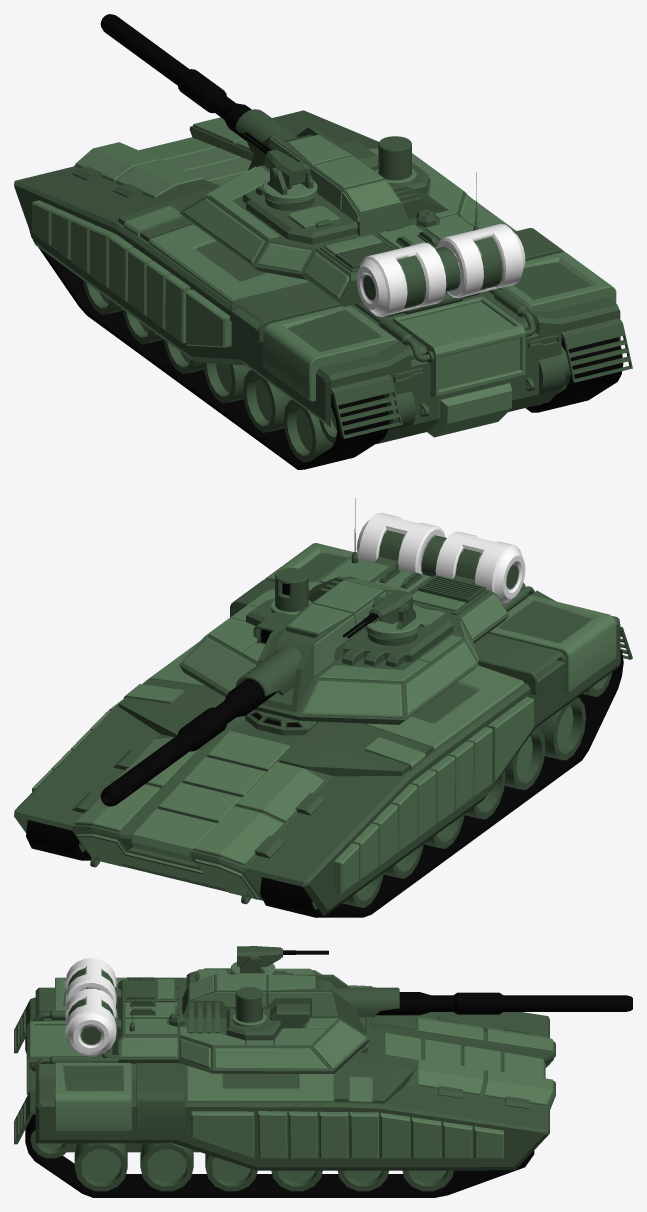
Rendered from Tank.glb.
3 renders of one model, top to bottom at view 1: azimuth 30°, elevation 25°; view 2: azimuth 150°, elevation 25°; view 3: azimuth 270°, elevation 25°, orthographic. The views are drawn at different scales.
Parts seen in each view (by area): view 1: Tank, Turret; view 2: Tank, Turret; view 3: Tank, Turret.
Boxes of the visible parts, x1,y1,x2,y2 form: Tank: [14, 110, 632, 469]; Turret: [100, 14, 525, 316]; Tank: [14, 543, 632, 917]; Turret: [100, 498, 525, 806]; Tank: [14, 977, 555, 1197]; Turret: [65, 946, 632, 1073].
Size of the model in its own units: 4.48 by 3.18 by 9.53.
1 material, 1 textured.
